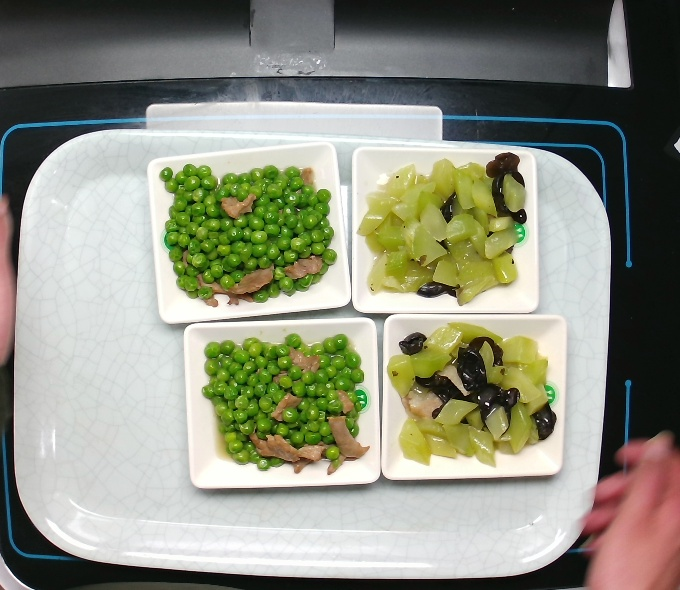wcq-CanDouRouSi: (142, 155, 345, 315), (196, 326, 369, 490)
wcq-WoSunKuai: (357, 147, 531, 316), (378, 315, 560, 471)
